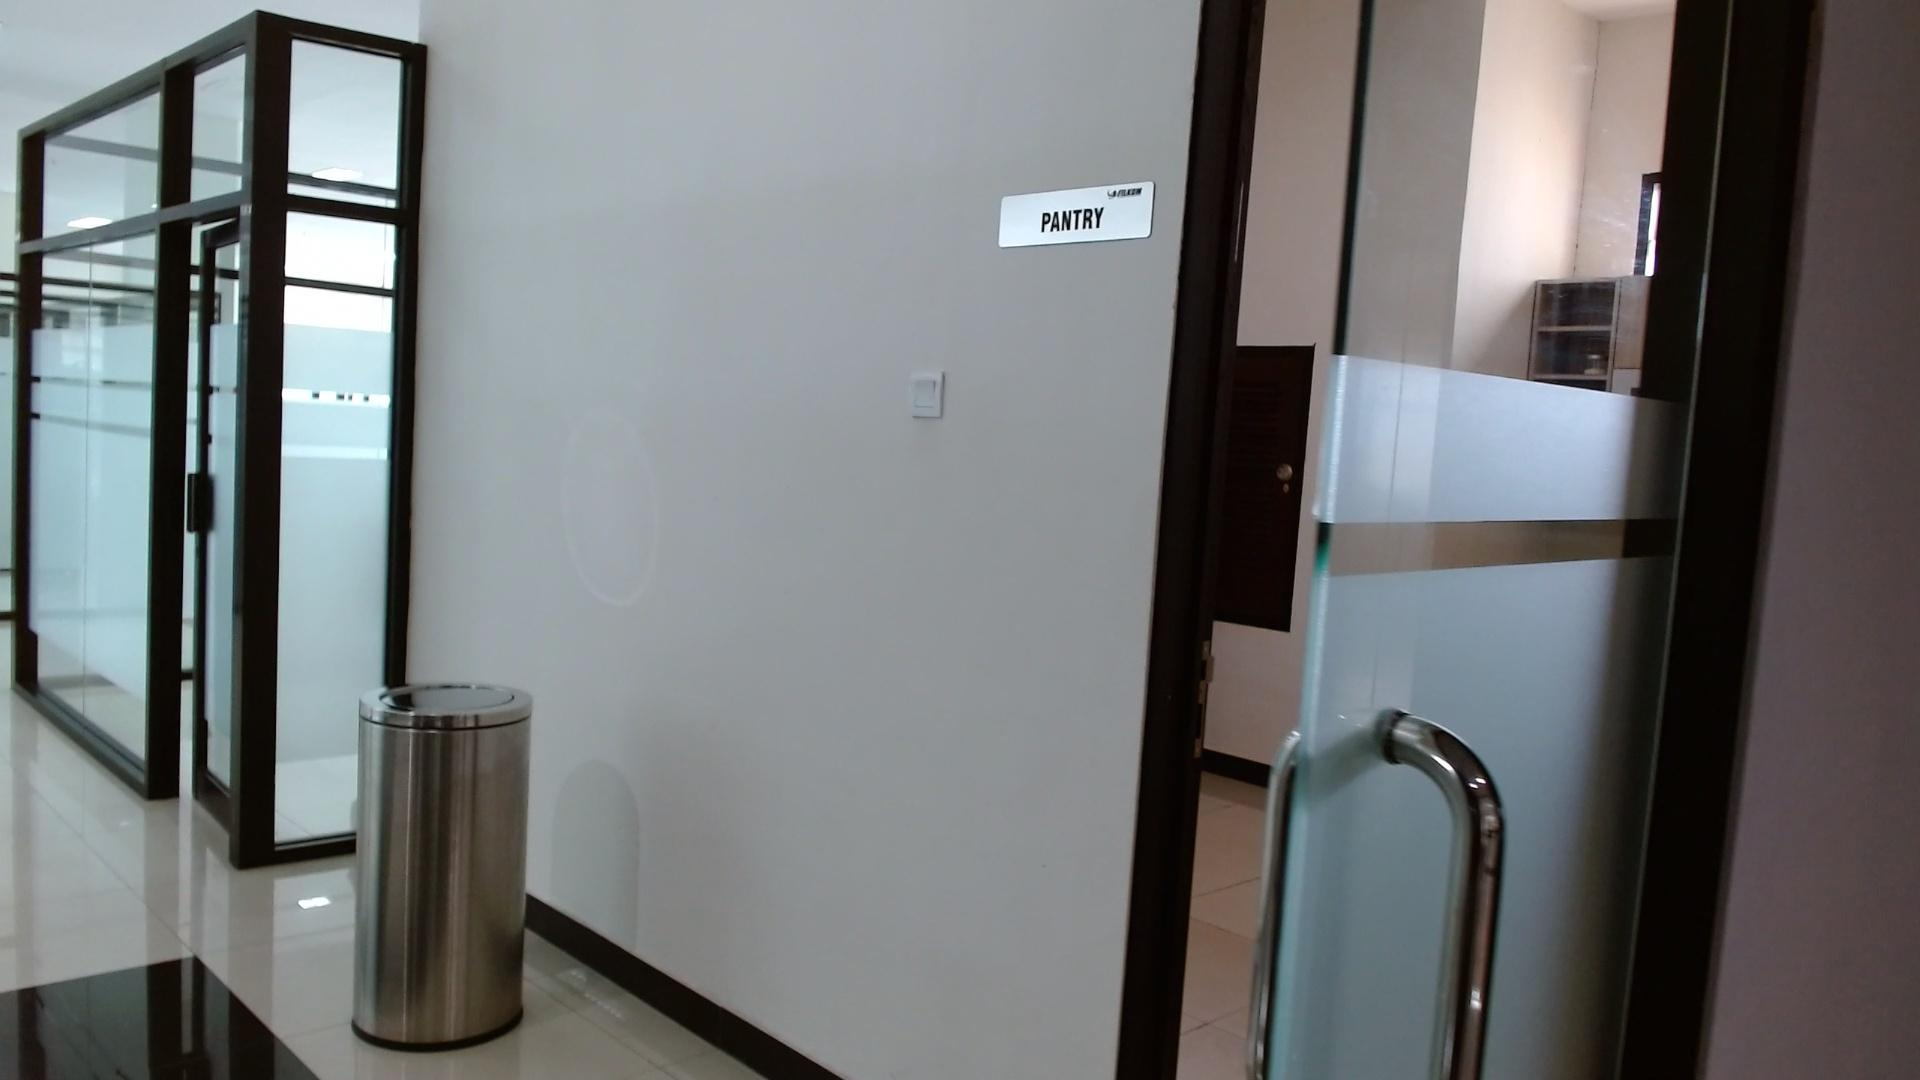plate: (997, 181, 1156, 248)
